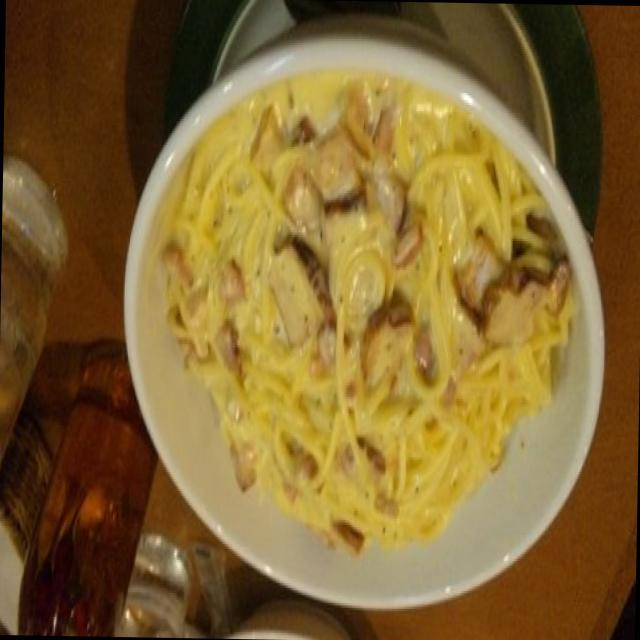Pasta: (170, 116, 542, 540)
